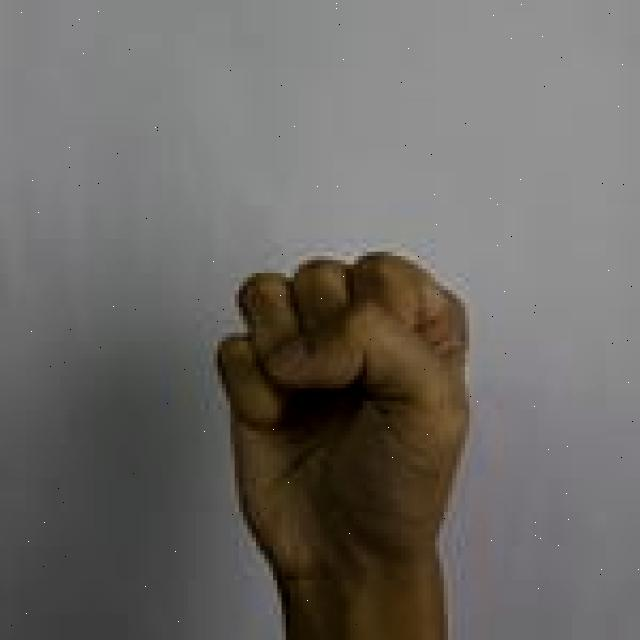S: (214, 246, 473, 640)
